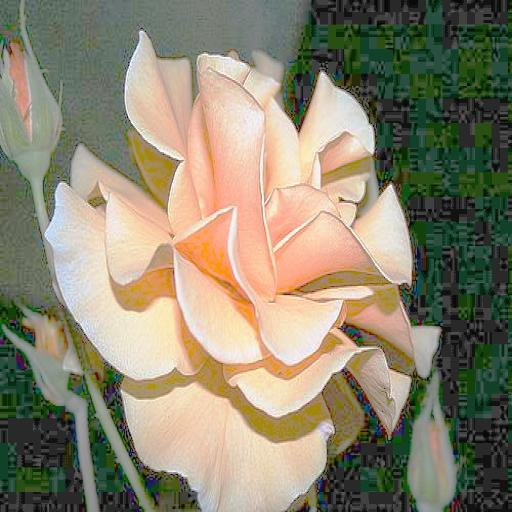rose: (45, 23, 436, 512)
